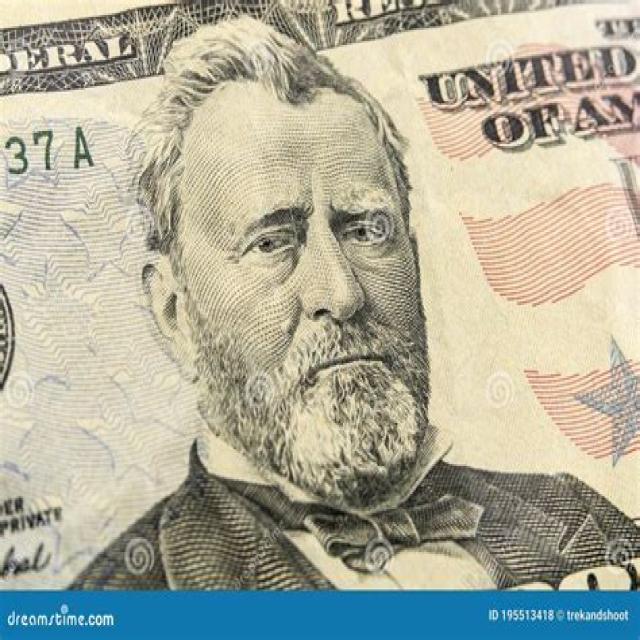Fifty: (0, 0, 640, 591)
